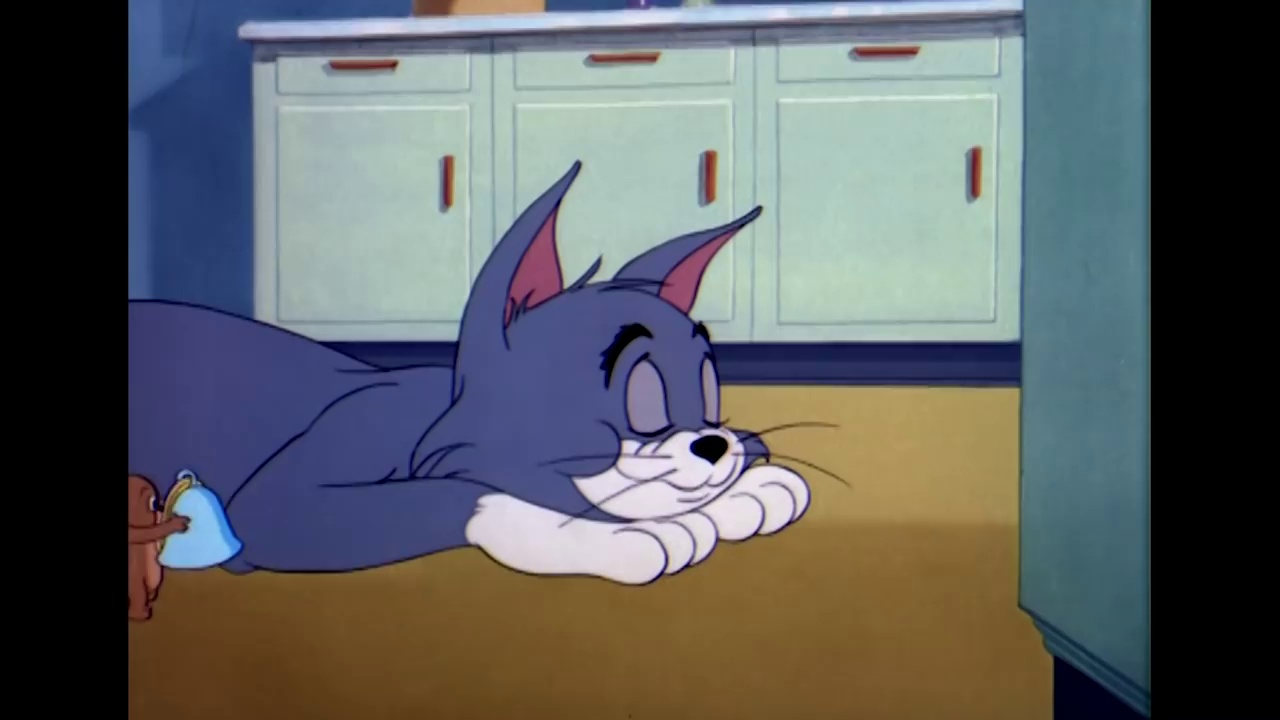tom: (410, 157, 771, 526)
